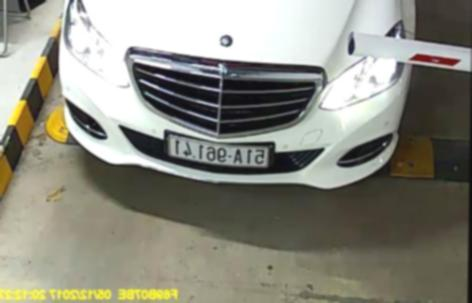License_Plate: (167, 137, 272, 168)
